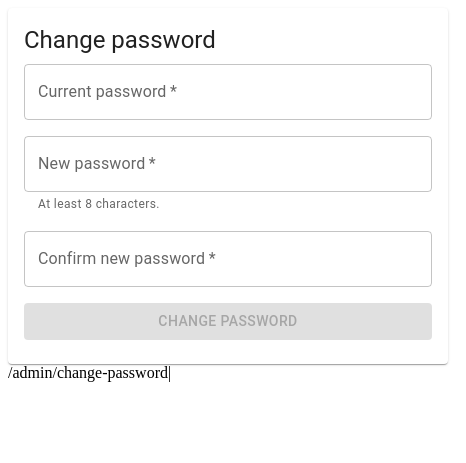
Test: ChangePasswordPage › reports a rejected current password and stays on the page
Type "correct horse battery staple" into the password field labelled "Current password *".
click(228, 92); type("correct horse battery staple")  # box [24,64,432,120]
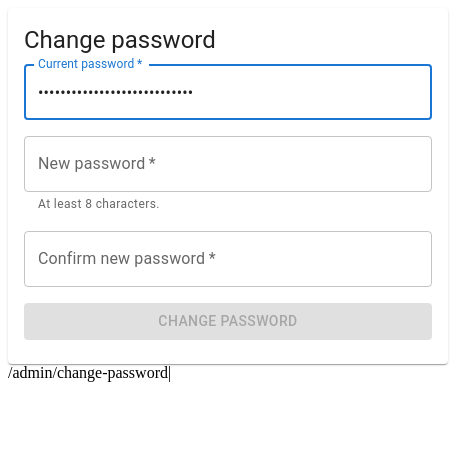
Type "staple battery horse correct" into the password field labelled "New password *".
click(228, 164); type("staple battery horse correct")  # box [24,136,432,192]
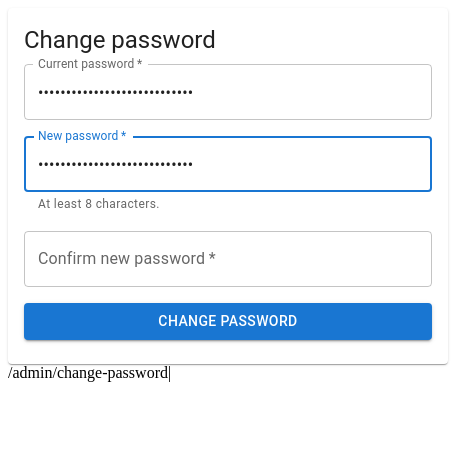
Type "staple battery horse correct" into the password field labelled "Confirm new password *".
click(228, 259); type("staple battery horse correct")  # box [24,231,432,287]
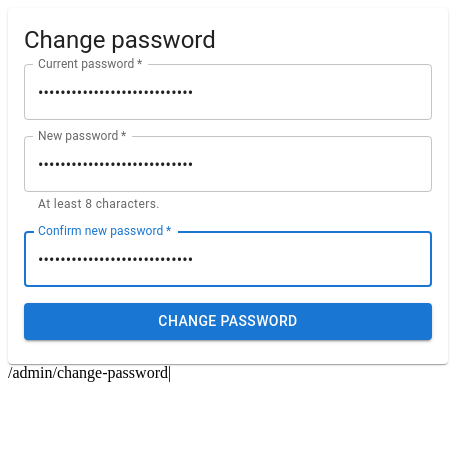
Click the button "Change password".
click(228, 322)  # box [24,303,432,340]
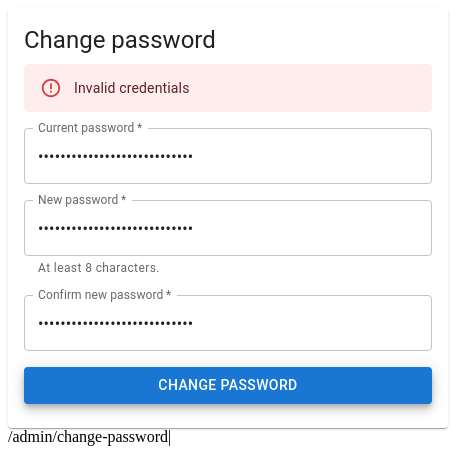
Expected: the text with test id "location" reads "/admin/change-password|", [8,428,171,445]
Expected: the message reads "Invalid credentials", [74,80,190,96]
